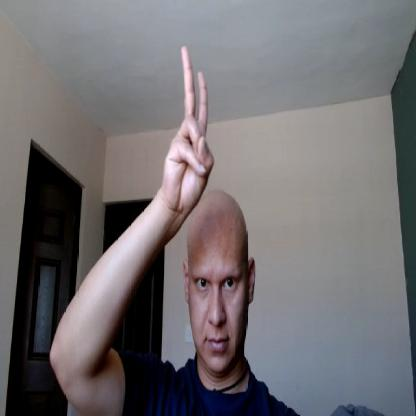V: (163, 44, 214, 216)
